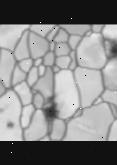good_void: (41, 93, 60, 123), (106, 39, 117, 61), (6, 120, 15, 128), (0, 106, 5, 116)
